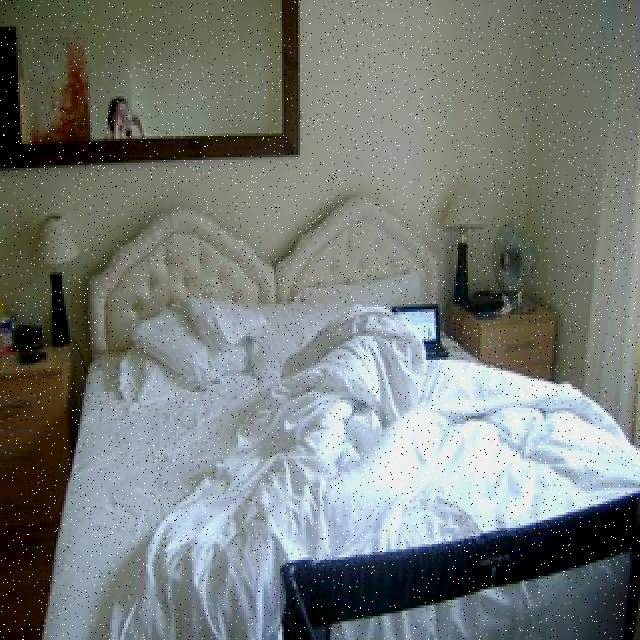bed: (36, 277, 622, 640)
